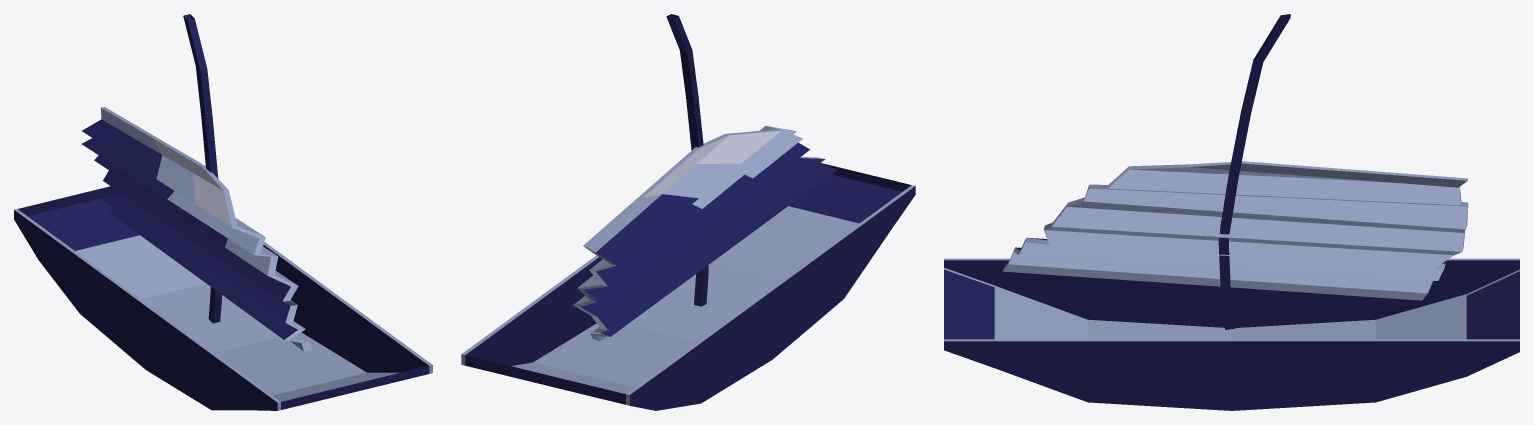
Rendered from short_boat.gltf.
3 renders of one model, left to right at view 1: azimuth 30°, elevation 25°; view 2: azimuth 150°, elevation 25°; view 3: azimuth 270°, elevation 25°, orthographic. The views are drawn at different scales.
Visible parts, largest first — view 1: Cube.001, Cube.002, Cube.003; view 2: Cube.001, Cube.002, Cube.003; view 3: Cube.001, Cube.002, Cube.003.
Boxes of the visible parts, bbox=[...] form: Cube.001: bbox=[14, 186, 432, 410]; Cube.002: bbox=[81, 107, 311, 351]; Cube.003: bbox=[183, 14, 221, 323]; Cube.001: bbox=[461, 163, 915, 410]; Cube.002: bbox=[573, 126, 837, 340]; Cube.003: bbox=[666, 14, 708, 306]; Cube.001: bbox=[944, 258, 1519, 410]; Cube.002: bbox=[1002, 161, 1468, 300]; Cube.003: bbox=[1218, 14, 1290, 329].
Bounding box in the file's own units: 3.14 × 6.16 × 9.23.
